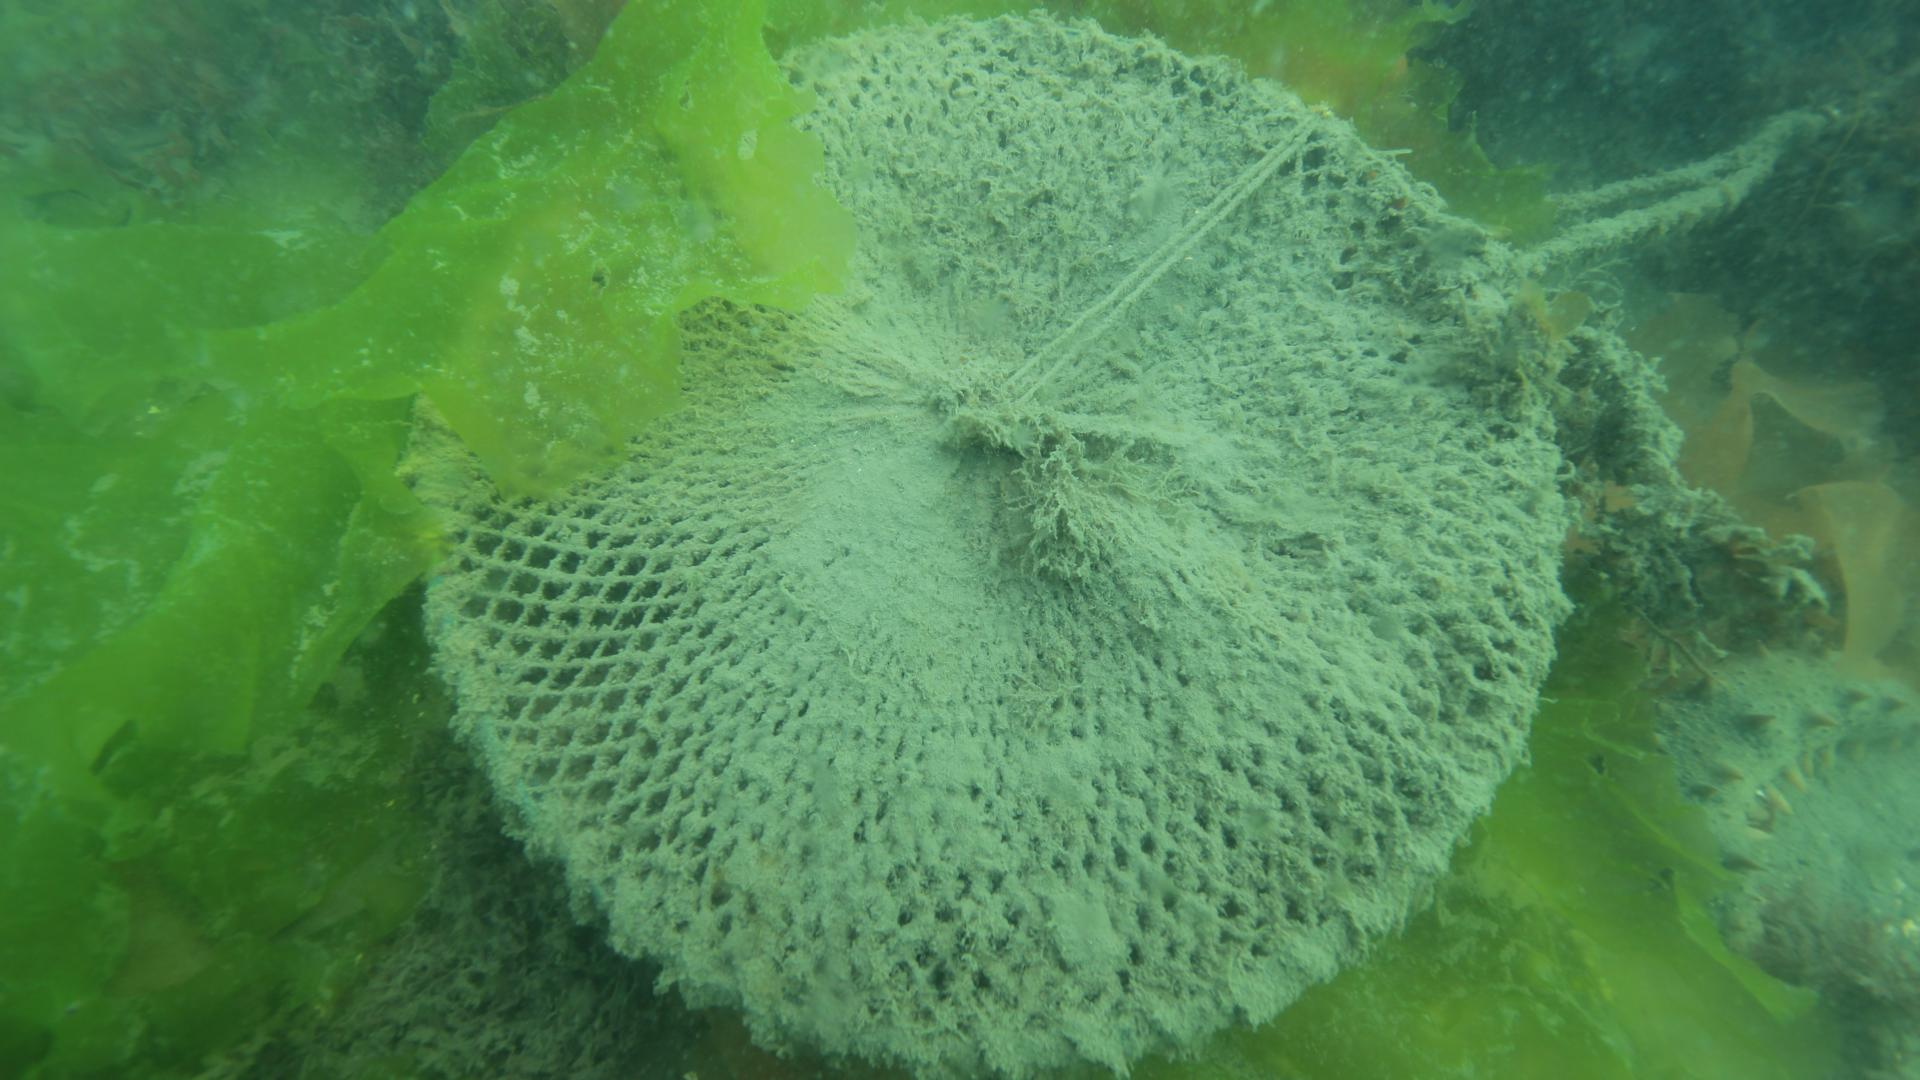bundle of ropes: (1523, 67, 1845, 282)
circular fish trap: (405, 5, 1581, 1075)
